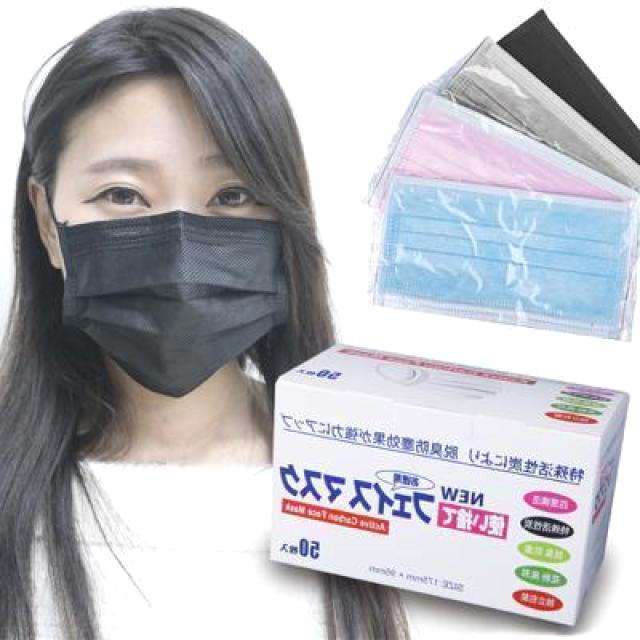face_mask: (46, 146, 296, 400)
head_nohelmet: (48, 21, 283, 147)
person: (0, 14, 387, 640)
